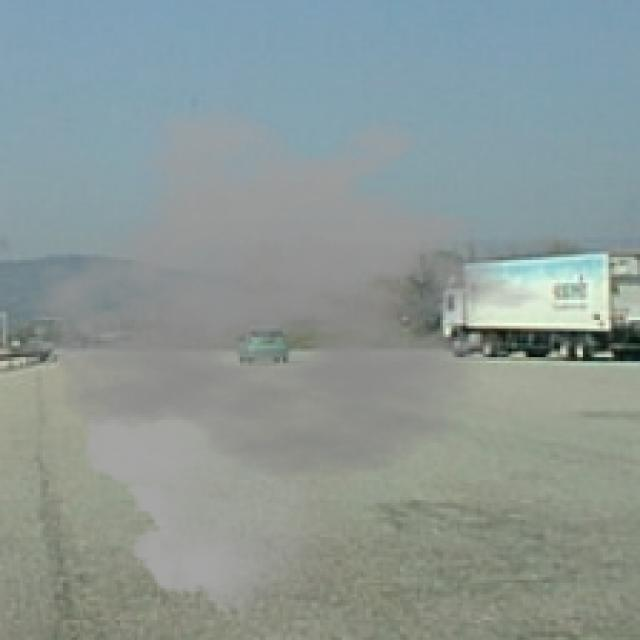smoke: (14, 103, 569, 620)
